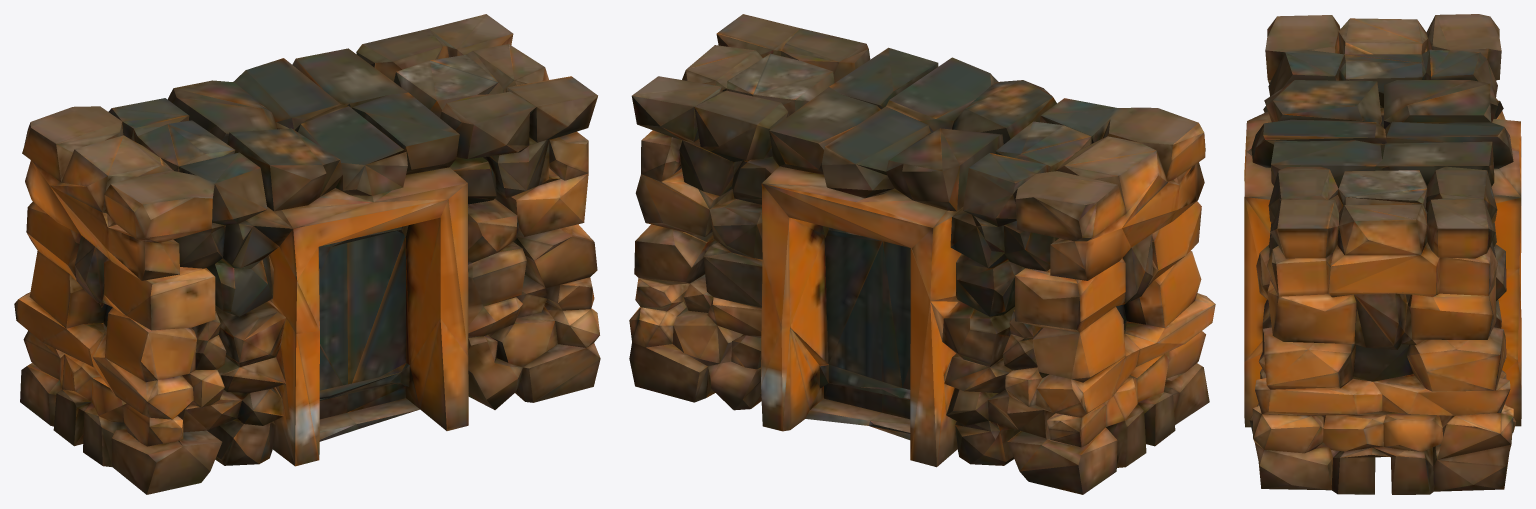
The model's file is door_ruins.glb.
3 views of the same model, side by side, from view 1: azimuth 30°, elevation 25°; view 2: azimuth 150°, elevation 25°; view 3: azimuth 270°, elevation 25° (orthographic). The views are drawn at different scales.
Bounding box in the file's own units: 1.9 × 1.11 × 1.04.
1 material, 1 textured.
